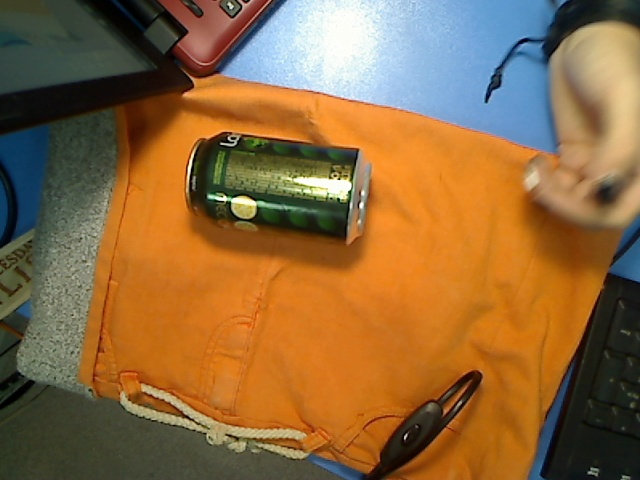can: (185, 132, 370, 245)
